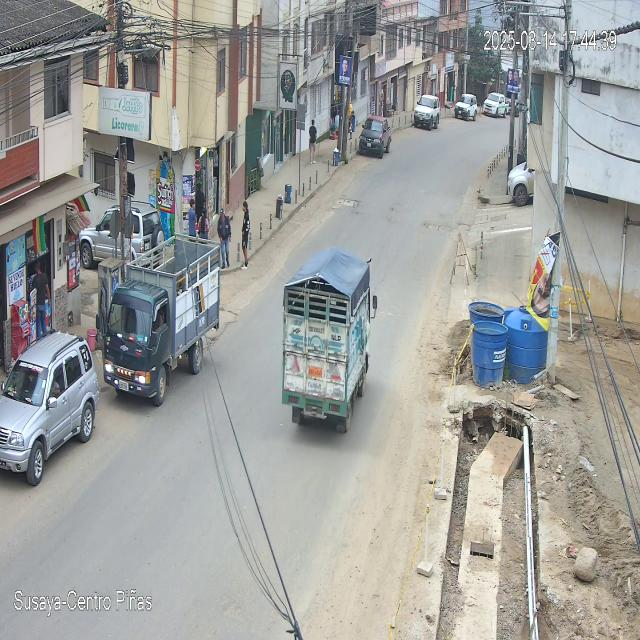TRUCK: (105, 240, 221, 407), (279, 250, 377, 439)
